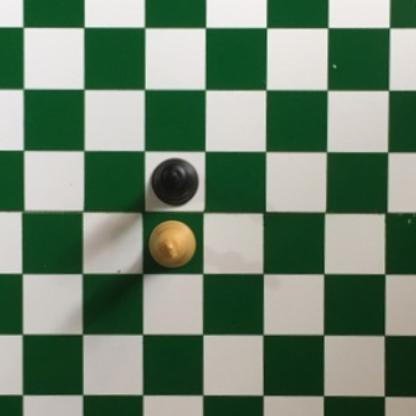black-king: (152, 155, 198, 204)
white-king: (147, 218, 198, 270)
